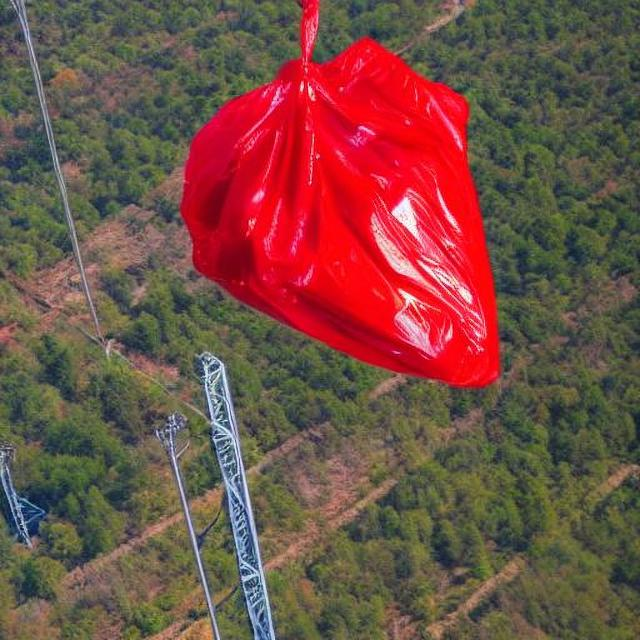plastic bag: (182, 9, 503, 383)
